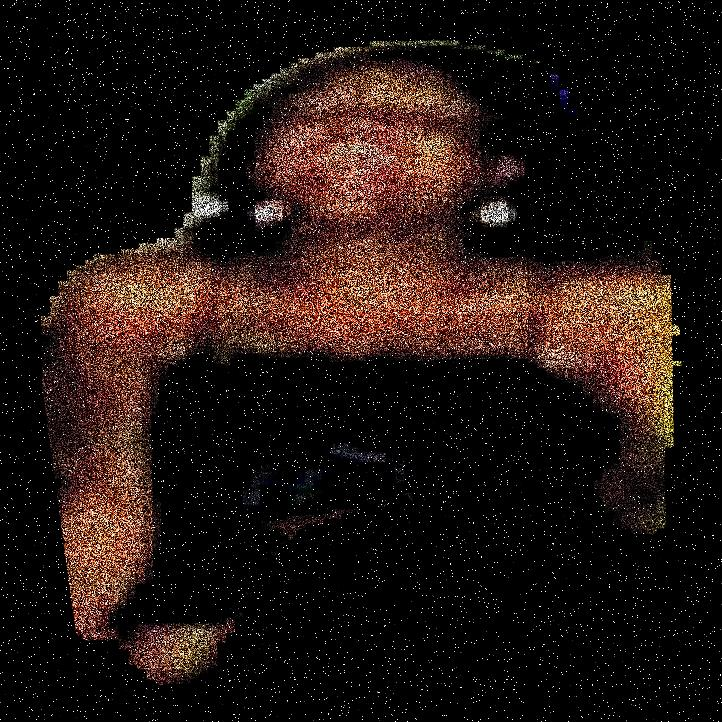Pessoa: (107, 0, 646, 721)
